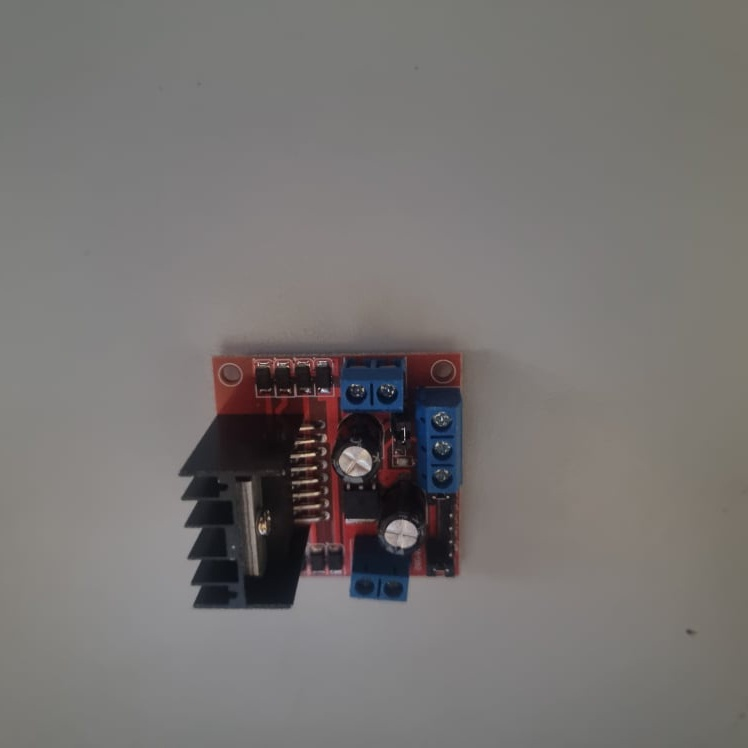MOTOR: (178, 349, 467, 613)
